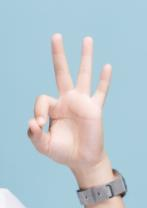left: (25, 33, 111, 166)
